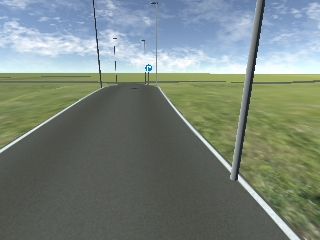right: (144, 65, 153, 73)
